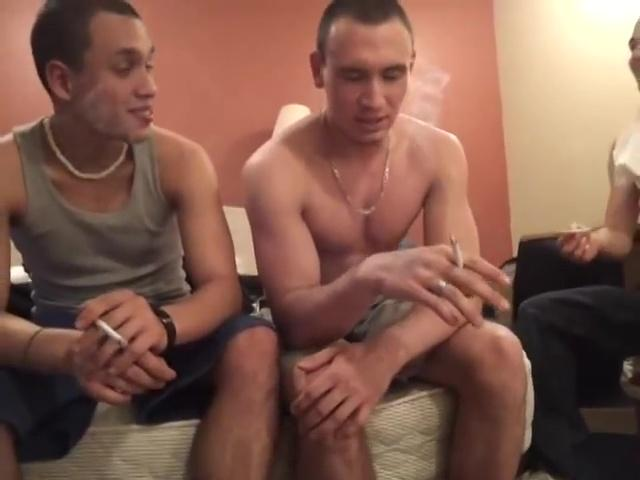cigarette: (94, 315, 130, 351), (448, 233, 466, 269)
